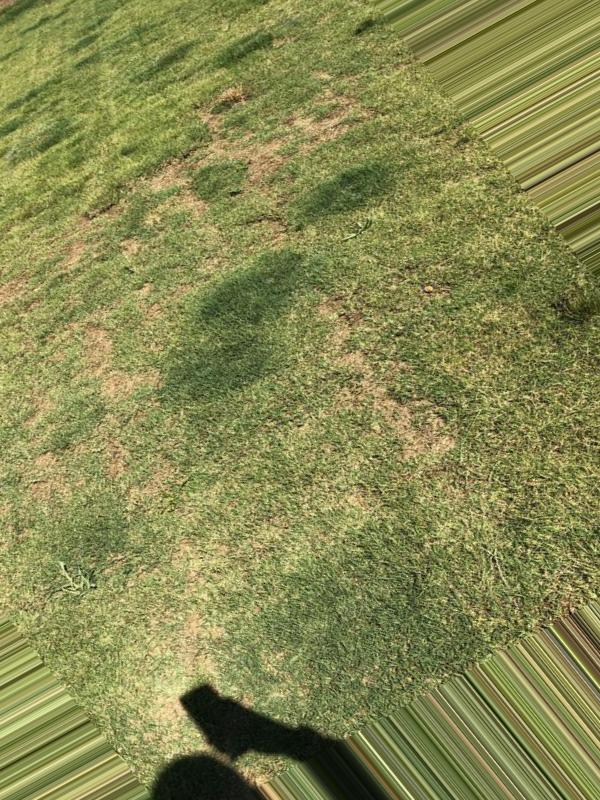patch: (120, 629, 217, 671), (167, 580, 217, 611), (185, 188, 218, 234), (257, 136, 290, 167), (153, 684, 179, 715), (336, 316, 356, 355), (103, 373, 133, 396), (89, 339, 109, 355)
